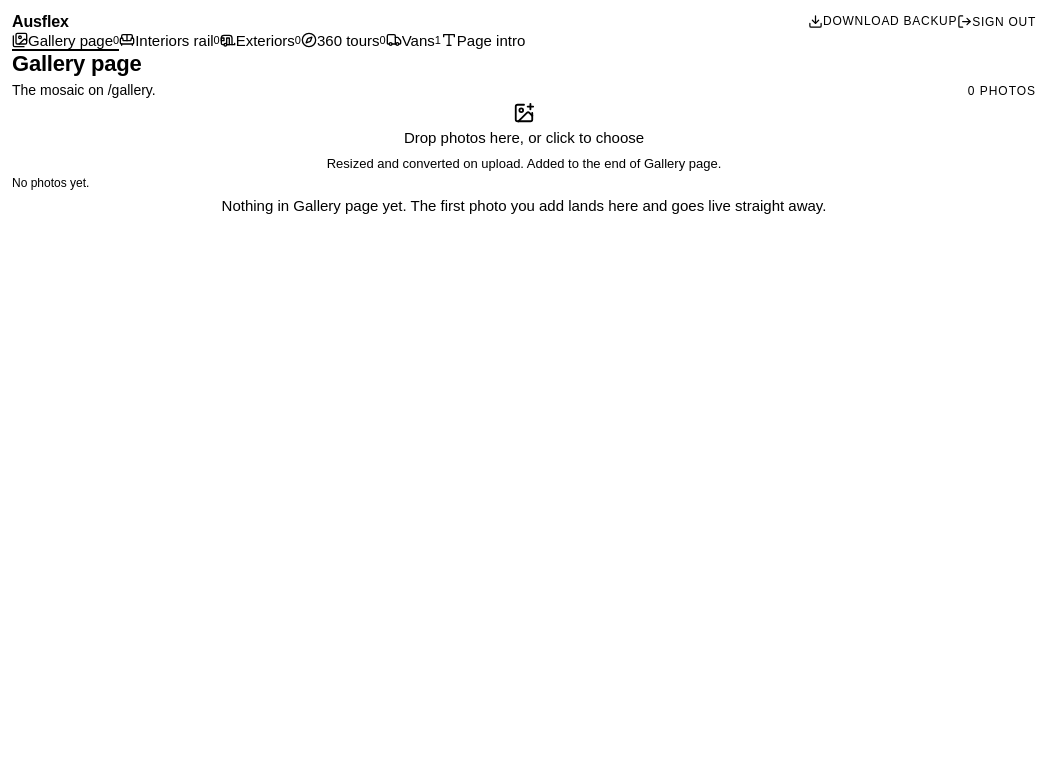
Test case: AdminPage — vans › asks before discarding unsaved changes when leaving the editor
Click the tab "Vans 1".
click(413, 41)  # box left=386, top=32, right=441, bottom=51
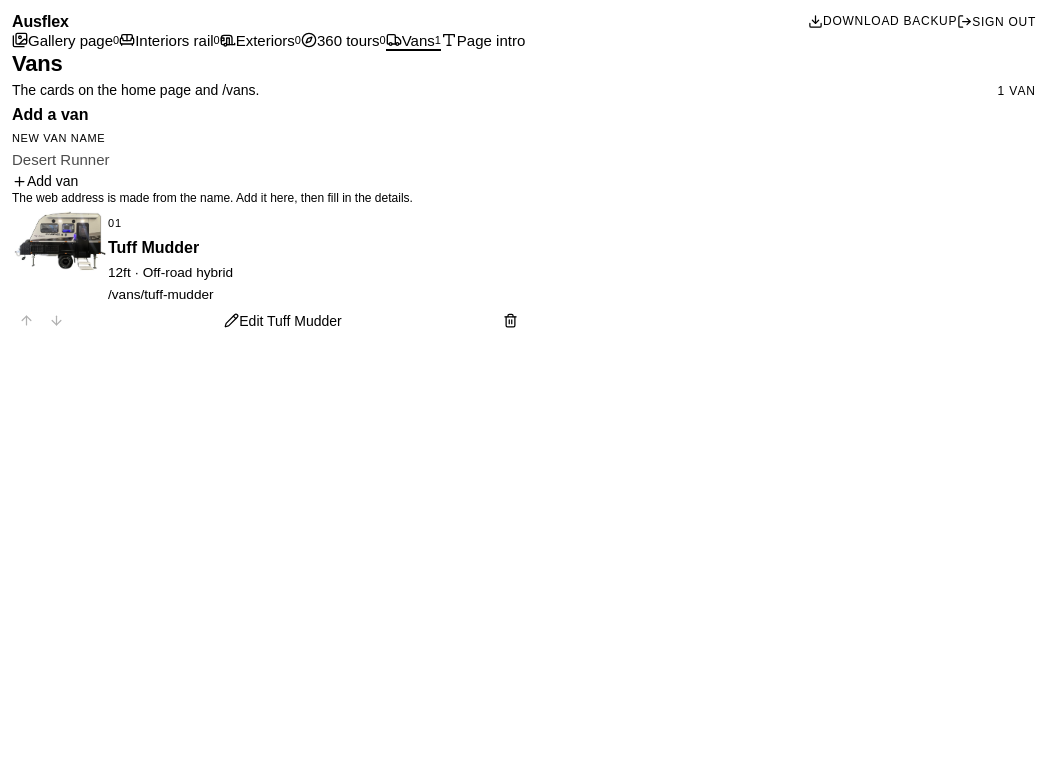
Click the button "Edit Tuff Mudder".
click(283, 321)  # box left=224, top=313, right=342, bottom=329
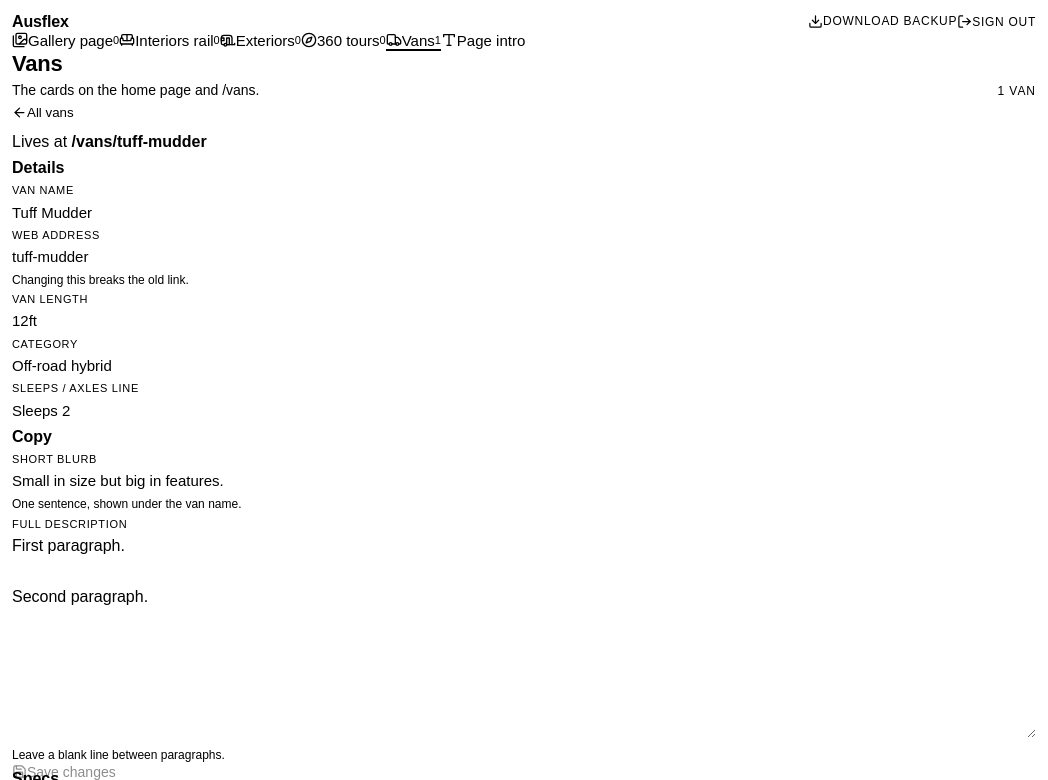
Replace the text in the field labelled "Van length" with "13ft" at {"x": 524, "y": 321}, box left=12, top=312, right=1036, bottom=330
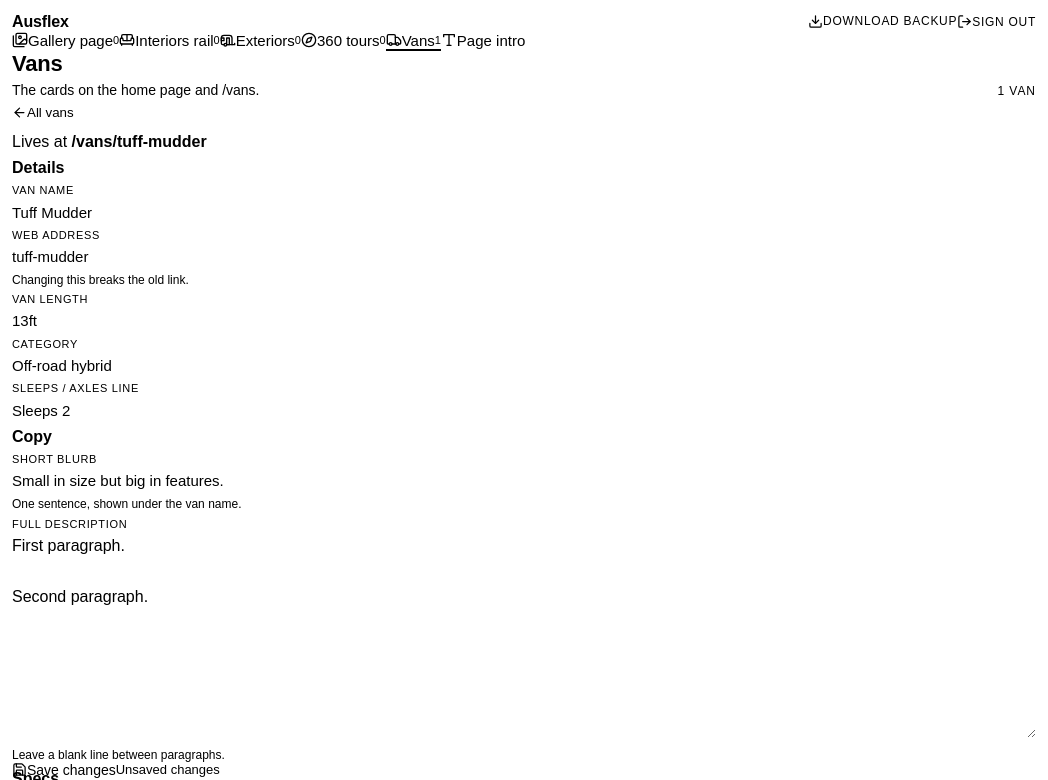
Click the button "All vans".
click(43, 113)  # box left=12, top=105, right=74, bottom=120
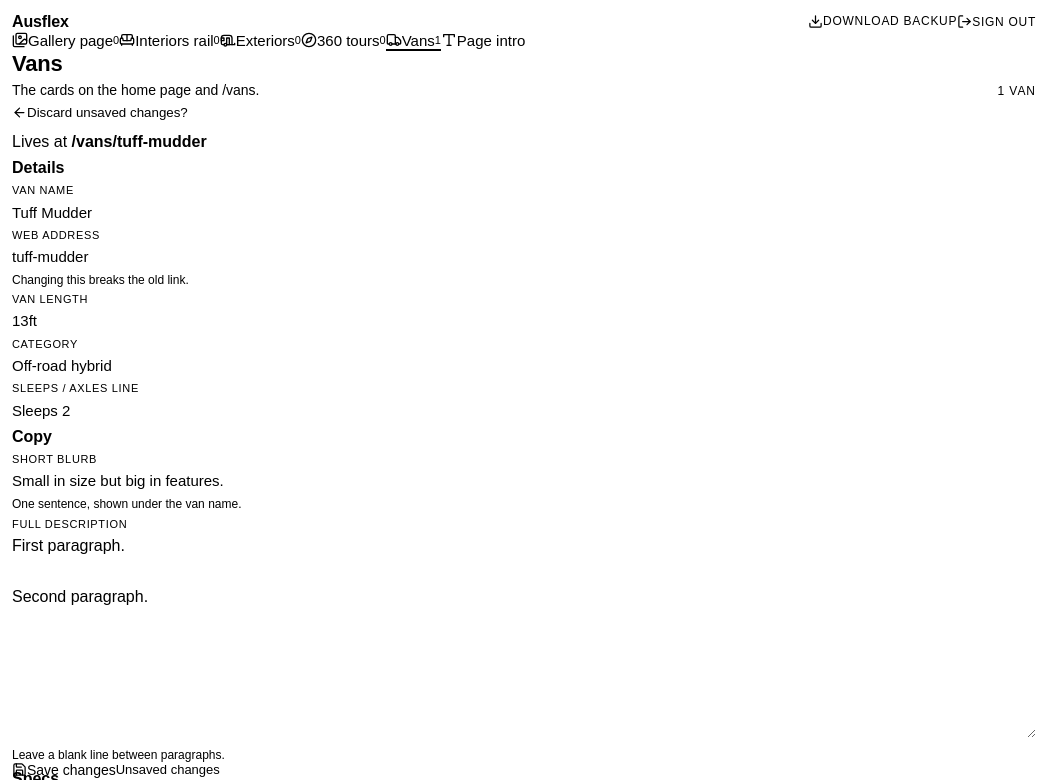
expect the field labelled "Van name" is shown: met, box left=12, top=204, right=1036, bottom=221
Click the button "Discard unsaved changes?".
click(100, 113)  # box left=12, top=105, right=188, bottom=120
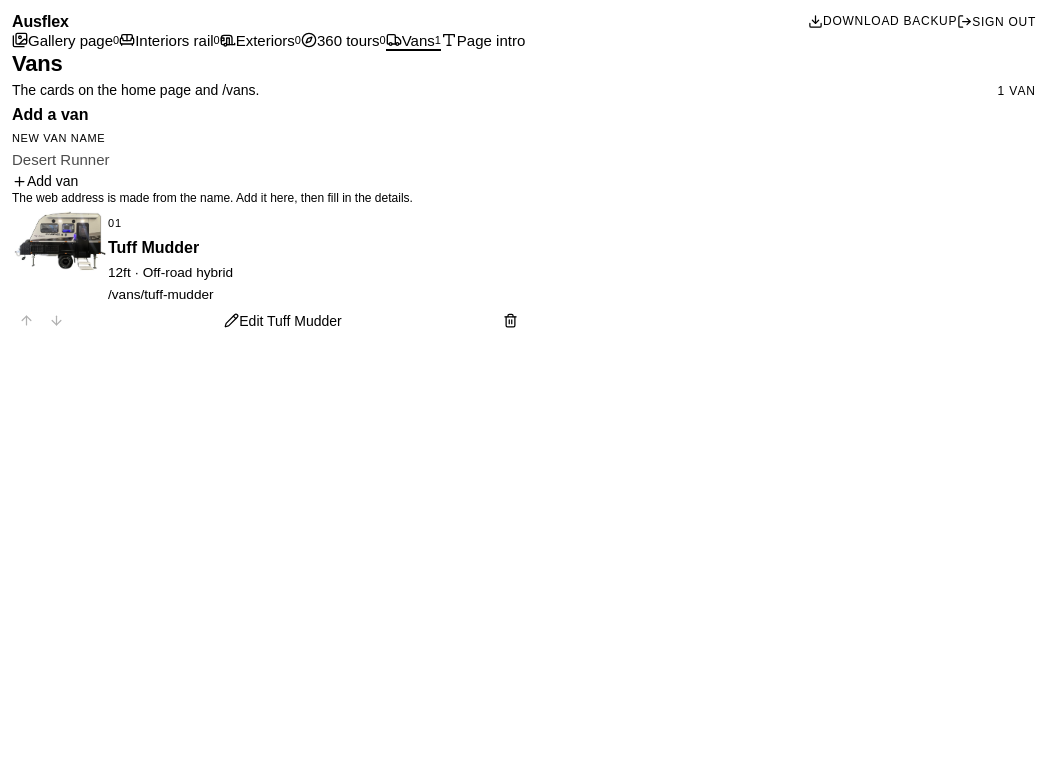
expect the button "Edit Tuff Mudder" is shown: met, box left=224, top=313, right=342, bottom=329
